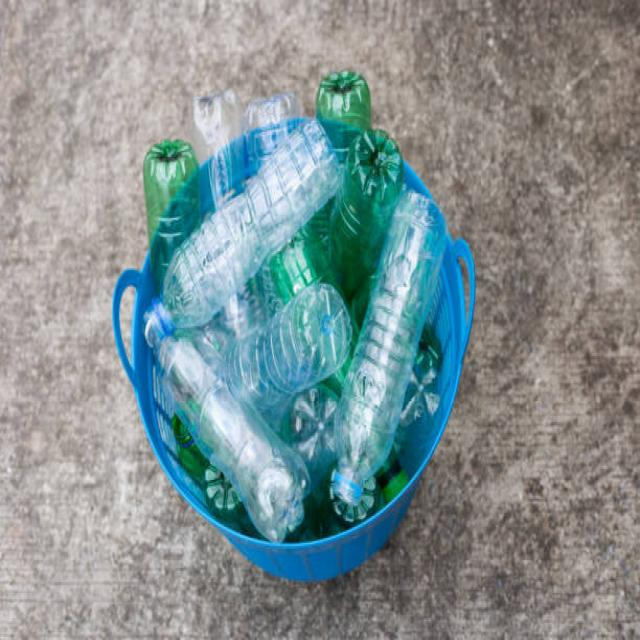plastic: (179, 158, 415, 463)
